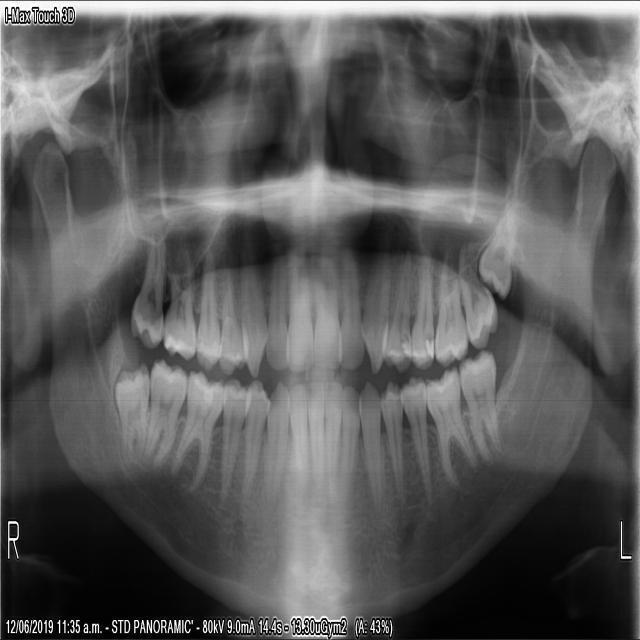LCD: (354, 375, 381, 522)
LCU: (357, 221, 389, 376)
LID: (338, 381, 361, 504), (320, 377, 341, 501)
LIU: (310, 248, 341, 372), (333, 245, 363, 370)
LMD: (421, 362, 477, 489), (455, 345, 501, 466)
LMU: (431, 248, 467, 365), (456, 246, 497, 348), (475, 201, 516, 299)
LPMD: (397, 370, 431, 509), (374, 376, 402, 505)
LPMU: (378, 241, 411, 374), (401, 246, 433, 371)
RCD: (262, 375, 288, 512)
RCU: (237, 219, 267, 376)
RID: (283, 379, 306, 494), (303, 378, 321, 500)
RIU: (281, 244, 311, 374), (261, 243, 288, 369)
RMD: (166, 364, 226, 492), (140, 354, 186, 465), (110, 356, 149, 466)
RMU: (127, 225, 167, 351), (157, 233, 195, 362)
RPMD: (217, 372, 251, 497), (238, 374, 269, 500)
RPMU: (215, 247, 248, 374), (192, 238, 220, 370)
